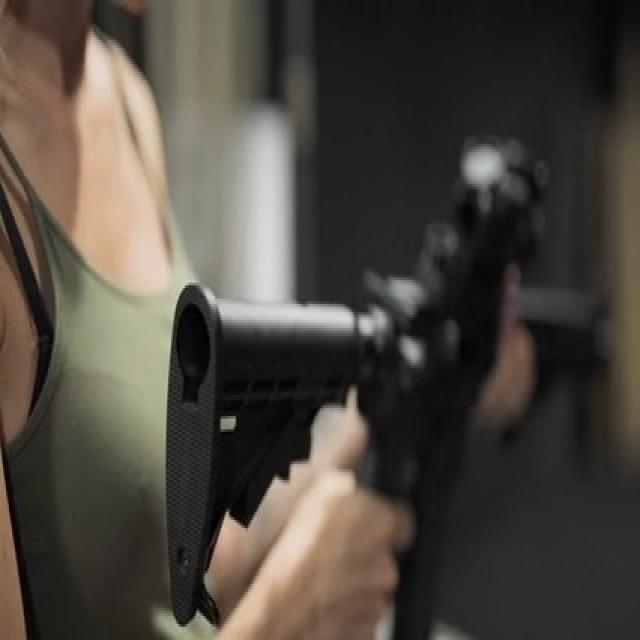Gun_Holder: (143, 53, 640, 639)
